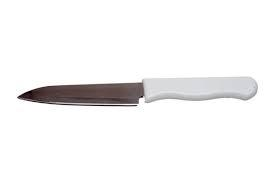Knife: (16, 75, 258, 106)
